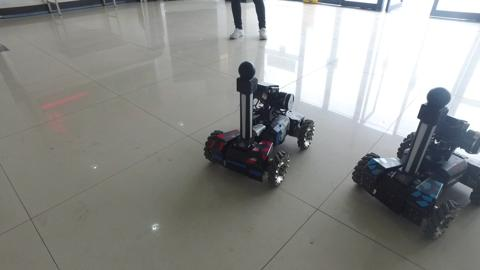chariot: (349, 81, 479, 247), (196, 57, 321, 194)
